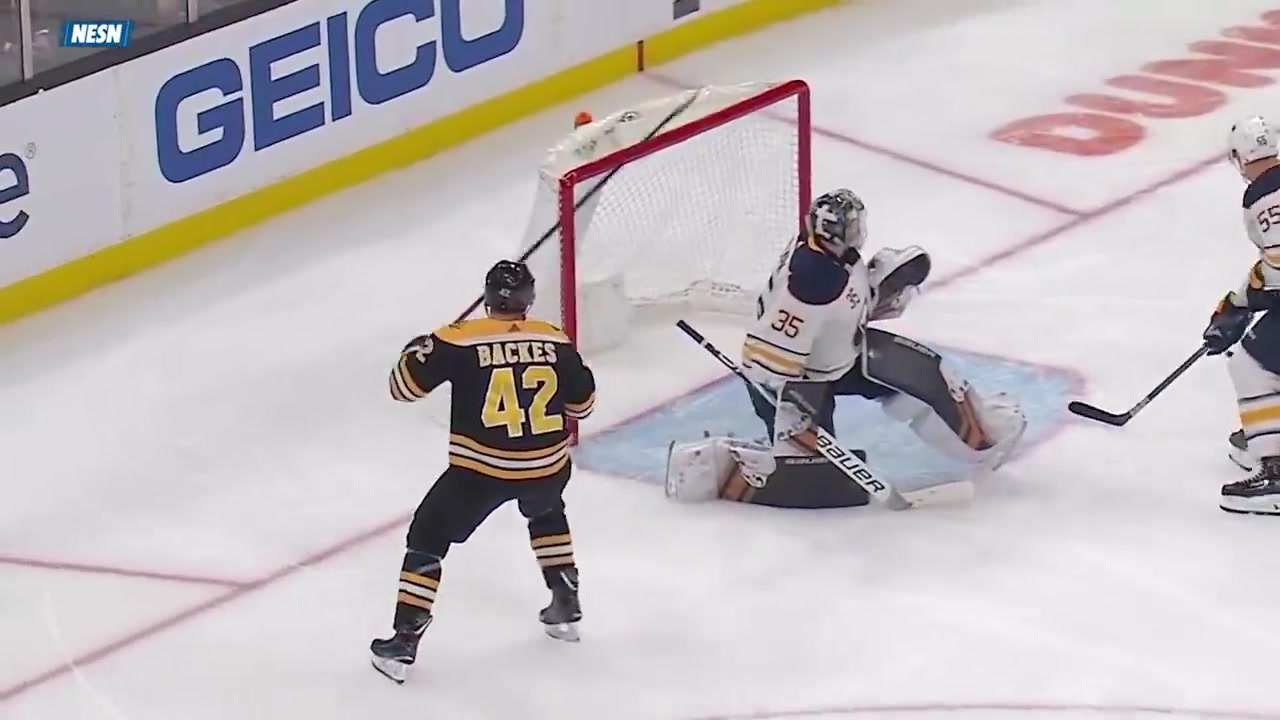Geico: (158, 8, 532, 183)
